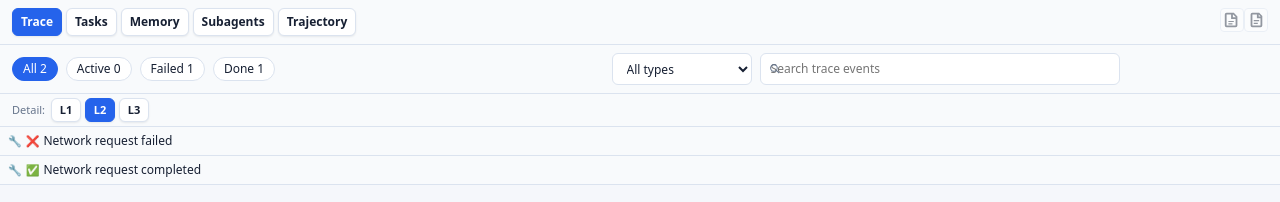
Test: TraceTimeline › combines trace search with the selected status filter
Step 1. Type "network" into the search field with test id "trace-search-input" → (940, 69), box [760,53,1120,85]
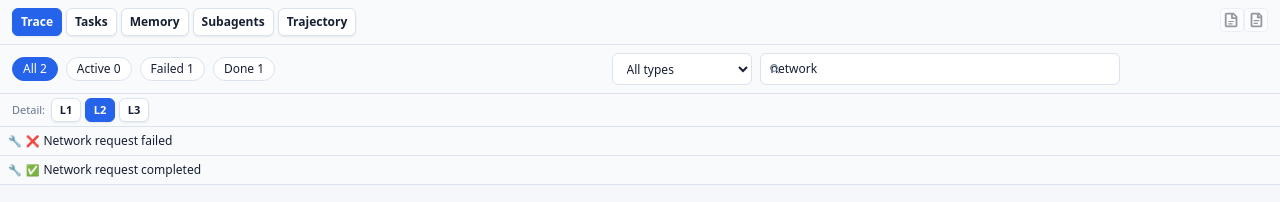
Step 2. Click the button with test id "trace-filter-failed" → (172, 69), box [140,57,205,81]
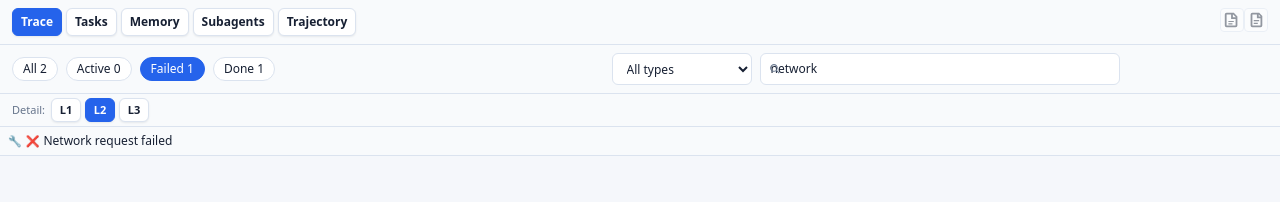
expect the text "Network request failed" is shown: met, box [43,132,172,149]
expect the text "Network request completed" is gone: met
